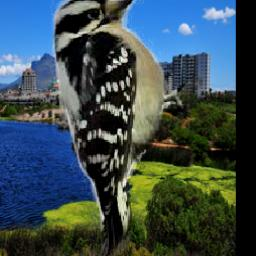Woodpecker: (49, 0, 204, 256)
